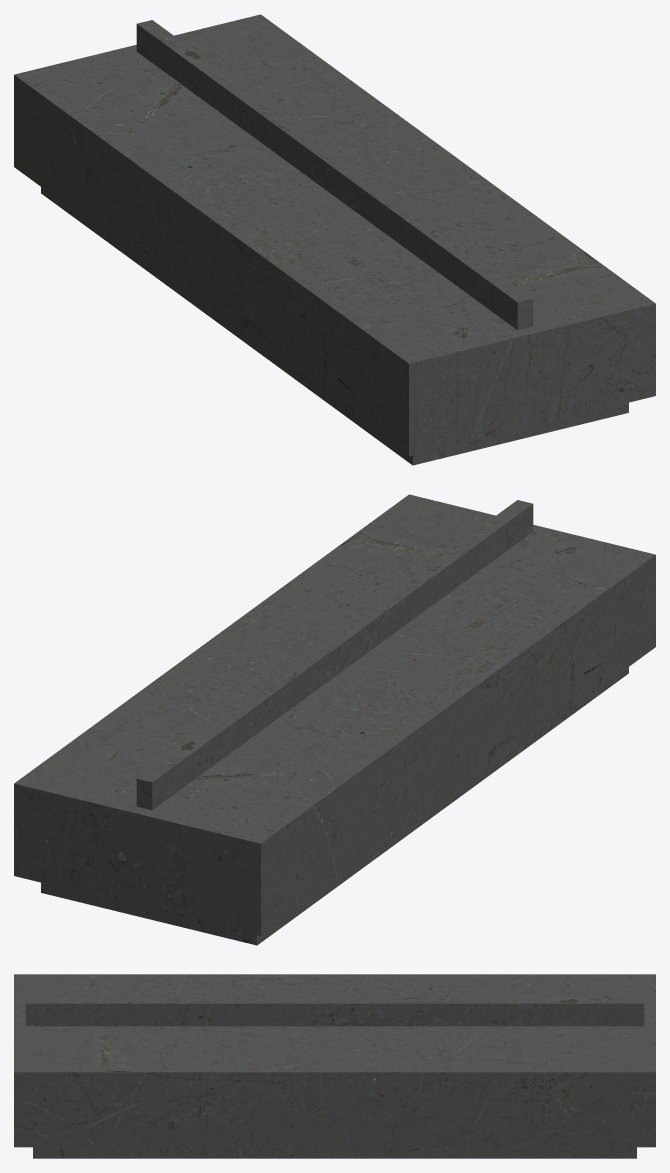
Rendered from Bench.fbx.
3 renders of one model, top to bottom at view 1: azimuth 30°, elevation 25°; view 2: azimuth 150°, elevation 25°; view 3: azimuth 270°, elevation 25°, orthographic. The views are drawn at different scales.
Visible parts, largest first — view 1: Bench; view 2: Bench; view 3: Bench.
Boxes of the visible parts, bbox=[...] form: Bench: bbox=[14, 14, 655, 465]; Bench: bbox=[14, 494, 655, 945]; Bench: bbox=[14, 974, 655, 1158].
Bounding box in the file's own units: 124 × 68.14 × 344.
Materials: 1 (1 with a texture image).
